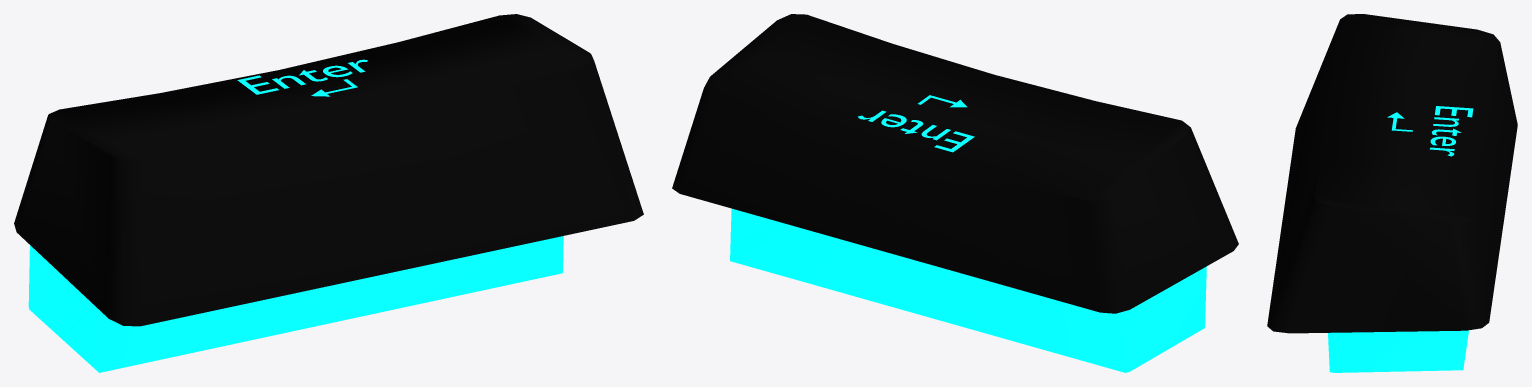
Rendered from enter-DfPgdO66.glb.
3 renders of one model, left to right at view 1: azimuth 30°, elevation 25°; view 2: azimuth 150°, elevation 25°; view 3: azimuth 270°, elevation 25°, orthographic. The views are drawn at different scales.
Visible parts, largest first — view 1: StudyShelf_225; view 2: StudyShelf_225; view 3: StudyShelf_225.
Part boxes in pixels (x1=…): StudyShelf_225: x1=14, y1=14, x2=643, y2=372; StudyShelf_225: x1=672, y1=14, x2=1238, y2=372; StudyShelf_225: x1=1267, y1=14, x2=1517, y2=372.
Bounding box in the file's own units: 9.68 × 3.76 × 4.68.
